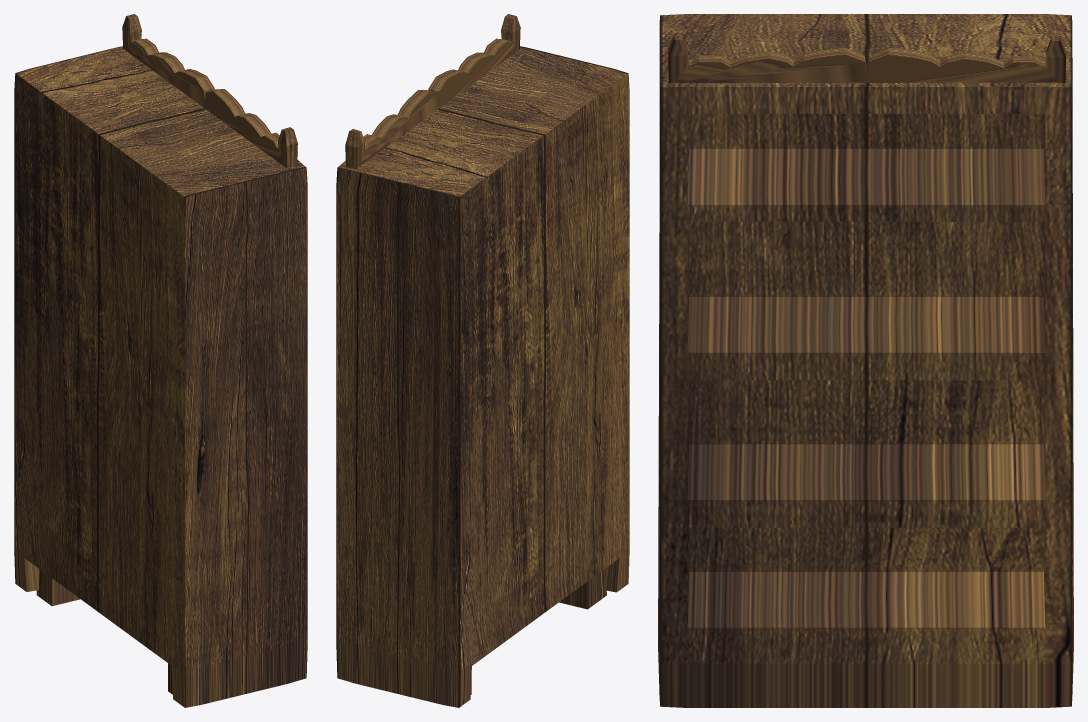
The model's file is Bookshelf.fbx.
3 views of the same model, side by side, from view 1: azimuth 30°, elevation 25°; view 2: azimuth 150°, elevation 25°; view 3: azimuth 270°, elevation 25° (orthographic). The views are drawn at different scales.
Visible parts, largest first — view 1: Cube; view 2: Cube; view 3: Cube.
Boxes of the visible parts, bbox=[...] form: Cube: bbox=[14, 14, 307, 707]; Cube: bbox=[336, 14, 629, 707]; Cube: bbox=[658, 14, 1073, 707].
Bounding box in the file's own units: 131 × 549 × 308.
Materials: 1 (1 with a texture image).
